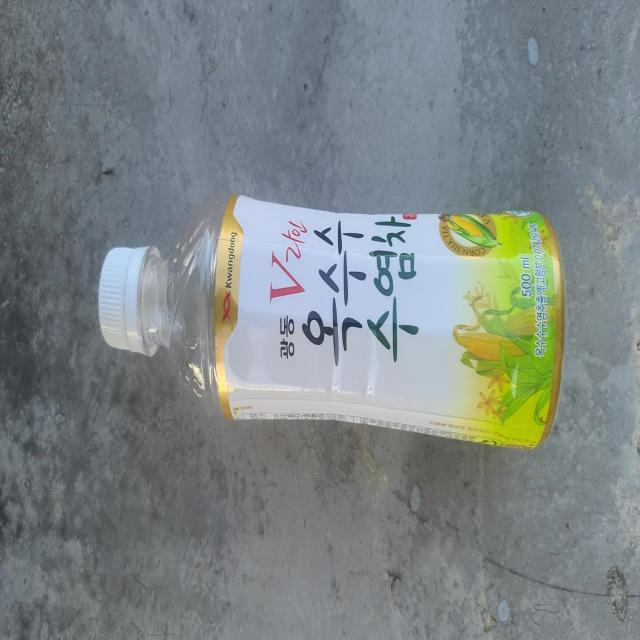plastic: (98, 194, 566, 448)
